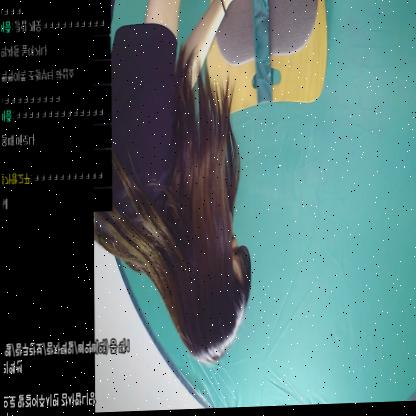streamer: (91, 0, 253, 369)
